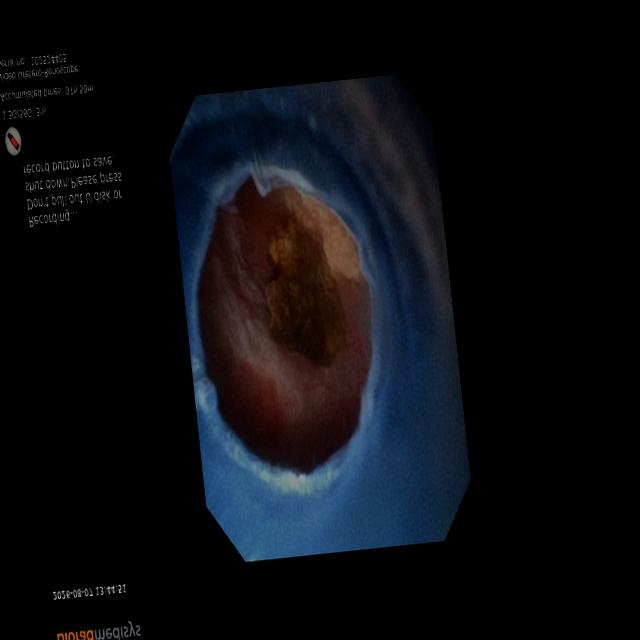stone-new: (265, 218, 344, 366)
